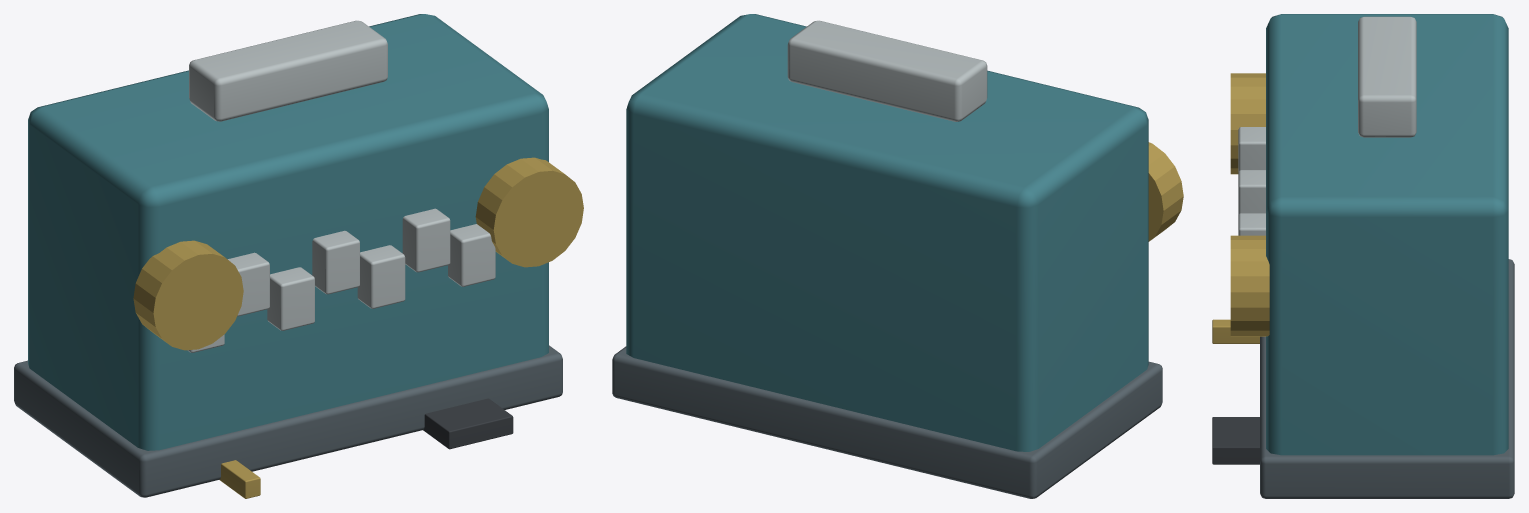
File: pcv_zip_clasp_trunk.glb
The picture shows the model from 3 angles, left to right: view 1: azimuth 30°, elevation 25°; view 2: azimuth 150°, elevation 25°; view 3: azimuth 270°, elevation 25°; orthographic projection. The views are drawn at different scales.
Parts seen in each view (by area): view 1: pcv_zip_clasp_trunk.archive_trunk_body, pcv_zip_clasp_trunk.functional_base, pcv_zip_clasp_trunk.separate_lid_handle, pcv_zip_clasp_trunk.side_clasp_drum, pcv_zip_clasp_trunk.side_clasp_drum.001, pcv_zip_clasp_trunk.ordinary_telltale_offset_seam, pcv_zip_clasp_trunk.interlocking_zip_tooth.005, pcv_zip_clasp_trunk.interlocking_zip_tooth.003, pcv_zip_clasp_trunk.interlocking_zip_tooth.004, pcv_zip_clasp_trunk.interlocking_zip_tooth.002, pcv_zip_clasp_trunk.interlocking_zip_tooth.006, pcv_zip_clasp_trunk.interlocking_zip_tooth.001 (+1 smaller); view 2: pcv_zip_clasp_trunk.archive_trunk_body, pcv_zip_clasp_trunk.functional_base, pcv_zip_clasp_trunk.separate_lid_handle, pcv_zip_clasp_trunk.side_clasp_drum; view 3: pcv_zip_clasp_trunk.archive_trunk_body, pcv_zip_clasp_trunk.functional_base, pcv_zip_clasp_trunk.separate_lid_handle, pcv_zip_clasp_trunk.side_clasp_drum.001, pcv_zip_clasp_trunk.side_clasp_drum, pcv_zip_clasp_trunk.ordinary_telltale_offset_seam, pcv_zip_clasp_trunk.interlocking_zip_tooth.001, pcv_zip_clasp_trunk.interlocking_zip_tooth.003, pcv_zip_clasp_trunk.ordinary_telltale_contact_notch, pcv_zip_clasp_trunk.interlocking_zip_tooth.005.
Part boxes in pixels (<box>): pcv_zip_clasp_trunk.archive_trunk_body: <box>28,14,548,450</box>; pcv_zip_clasp_trunk.functional_base: <box>14,345,562,497</box>; pcv_zip_clasp_trunk.separate_lid_handle: <box>189,20,387,121</box>; pcv_zip_clasp_trunk.side_clasp_drum: <box>133,240,243,350</box>; pcv_zip_clasp_trunk.side_clasp_drum.001: <box>475,157,583,267</box>; pcv_zip_clasp_trunk.ordinary_telltale_offset_seam: <box>423,398,513,449</box>; pcv_zip_clasp_trunk.interlocking_zip_tooth.005: <box>402,208,450,272</box>; pcv_zip_clasp_trunk.interlocking_zip_tooth.003: <box>312,230,359,294</box>; pcv_zip_clasp_trunk.interlocking_zip_tooth.004: <box>357,245,405,308</box>; pcv_zip_clasp_trunk.interlocking_zip_tooth.002: <box>267,267,314,330</box>; pcv_zip_clasp_trunk.interlocking_zip_tooth.006: <box>448,224,495,286</box>; pcv_zip_clasp_trunk.interlocking_zip_tooth.001: <box>228,252,269,316</box>; pcv_zip_clasp_trunk.archive_trunk_body: <box>626,14,1148,451</box>; pcv_zip_clasp_trunk.functional_base: <box>612,346,1162,498</box>; pcv_zip_clasp_trunk.separate_lid_handle: <box>787,20,987,121</box>; pcv_zip_clasp_trunk.side_clasp_drum: <box>1148,142,1183,241</box>; pcv_zip_clasp_trunk.archive_trunk_body: <box>1266,14,1508,455</box>; pcv_zip_clasp_trunk.functional_base: <box>1260,259,1514,498</box>; pcv_zip_clasp_trunk.separate_lid_handle: <box>1358,16,1416,137</box>; pcv_zip_clasp_trunk.side_clasp_drum.001: <box>1230,235,1269,336</box>; pcv_zip_clasp_trunk.side_clasp_drum: <box>1230,73,1265,174</box>; pcv_zip_clasp_trunk.ordinary_telltale_offset_seam: <box>1212,417,1259,464</box>; pcv_zip_clasp_trunk.interlocking_zip_tooth.001: <box>1238,127,1265,172</box>; pcv_zip_clasp_trunk.interlocking_zip_tooth.003: <box>1238,170,1265,215</box>; pcv_zip_clasp_trunk.ordinary_telltale_contact_notch: <box>1212,319,1259,343</box>; pcv_zip_clasp_trunk.interlocking_zip_tooth.005: <box>1238,213,1265,235</box>.
Bounding box in the file's own units: 1.24 × 0.97 × 0.7718.
